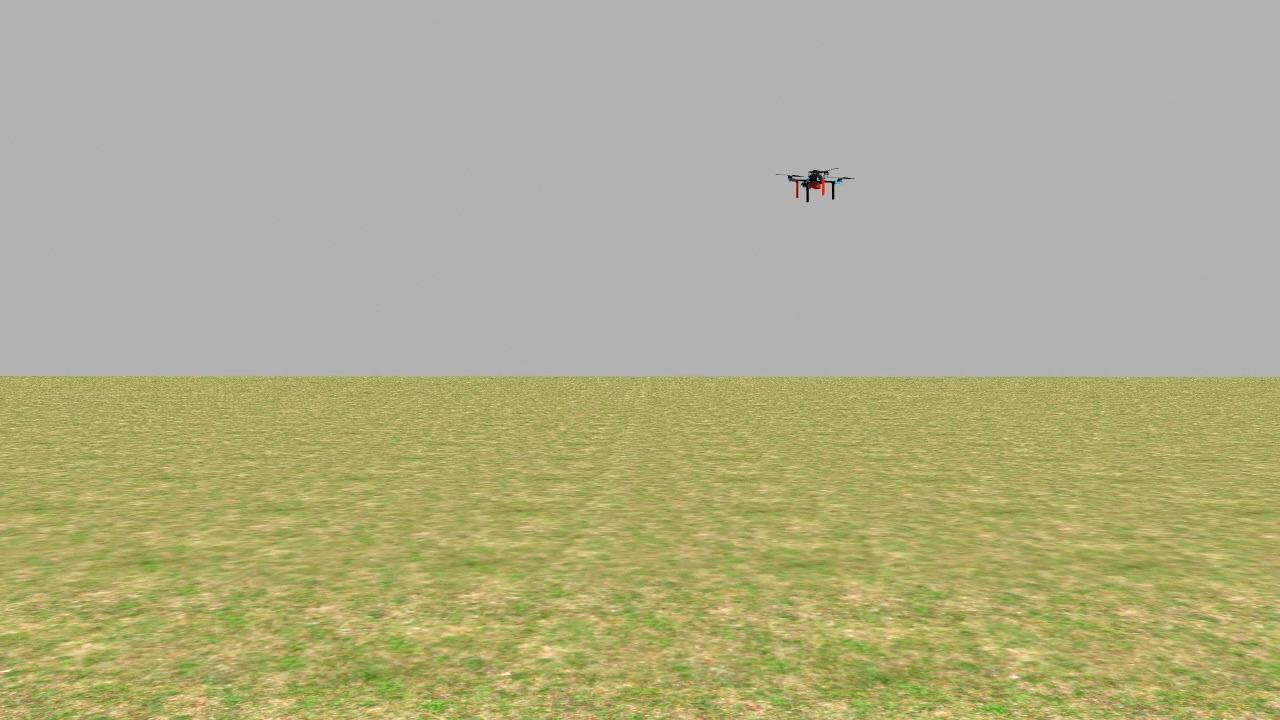UAV: (778, 159, 854, 218)
